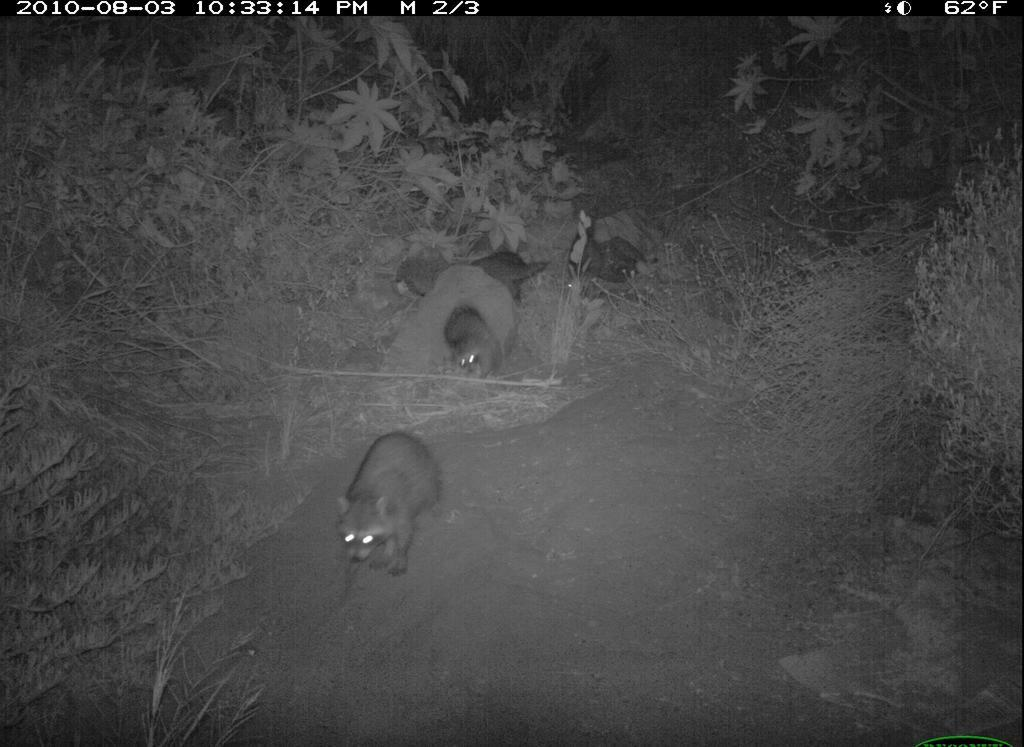raccoon: (335, 433, 447, 602), (565, 212, 648, 290), (472, 245, 553, 308), (440, 308, 505, 385), (393, 251, 450, 305)
